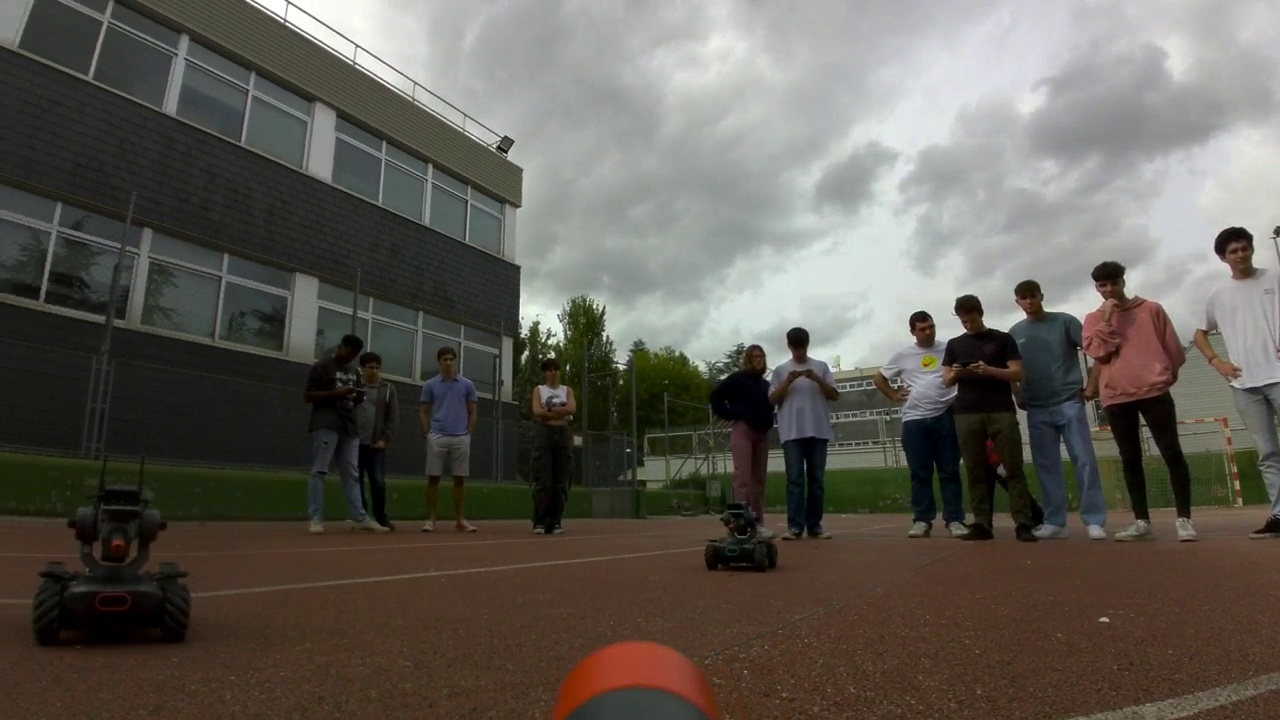robot: (36, 490, 189, 646), (705, 504, 779, 572)
